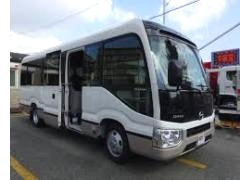bus: (16, 12, 214, 164)
